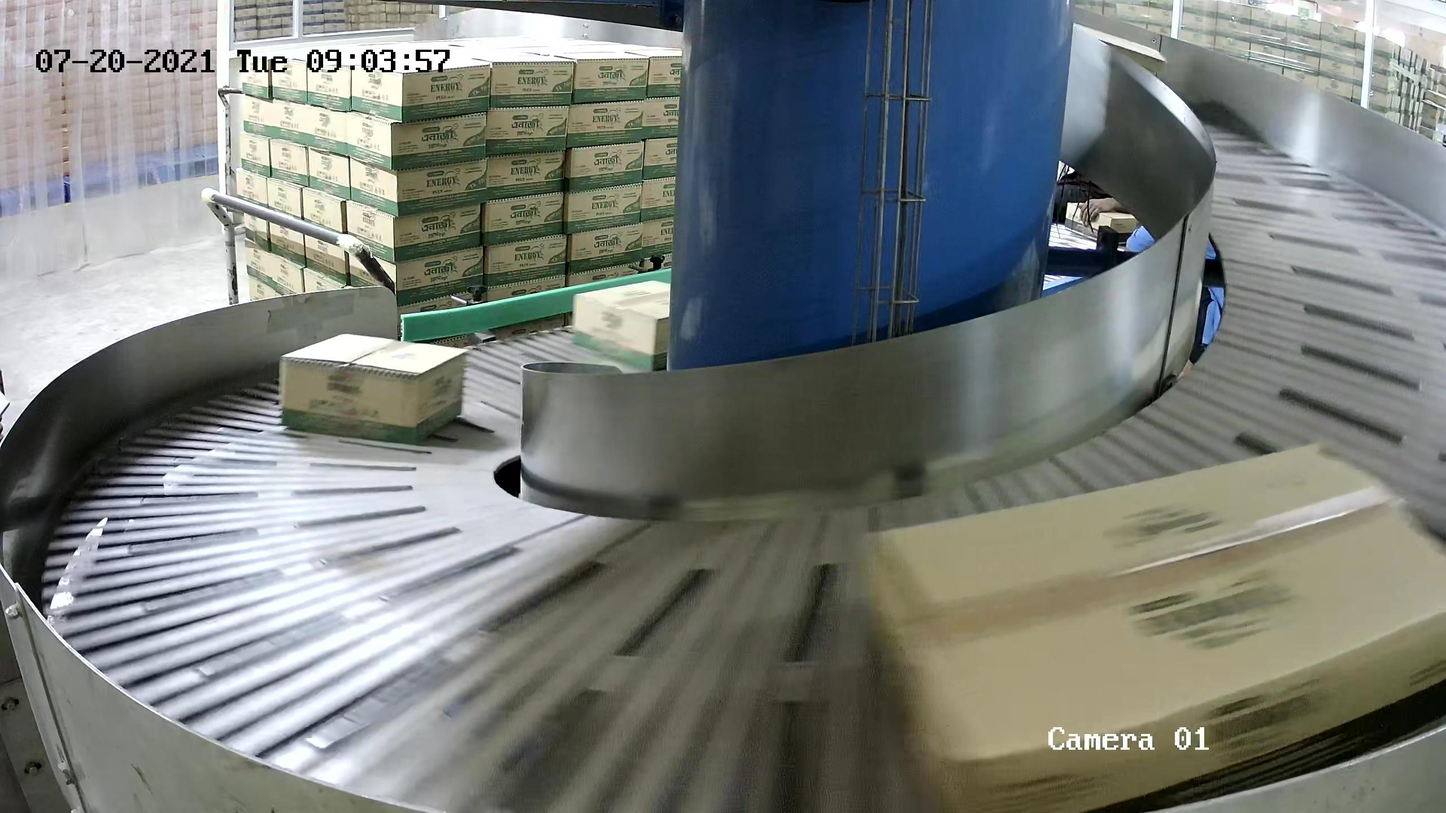Box: (861, 438, 1446, 813), (279, 332, 469, 445), (572, 281, 723, 376)
